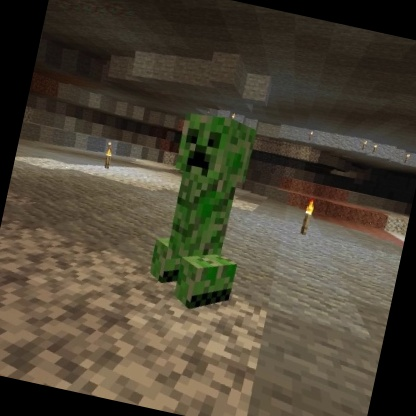creeper: (139, 105, 270, 321)
